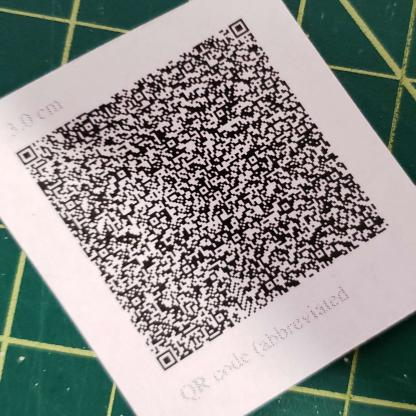qr: (13, 14, 397, 380)
